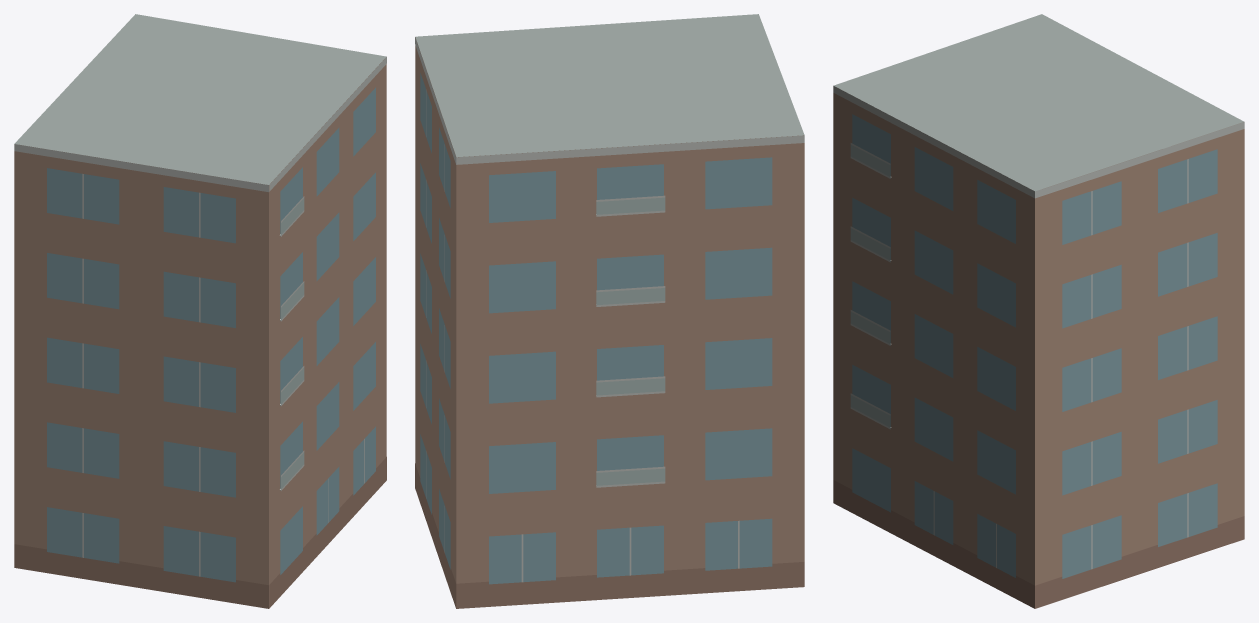
File: survey-upis-32771629.glb
The picture shows the model from 3 angles, left to right: view 1: azimuth 30°, elevation 25°; view 2: azimuth 150°, elevation 25°; view 3: azimuth 270°, elevation 25°; orthographic projection. The views are drawn at different scales.
Parts seen in each view (by area): view 1: survey-upis-32771629.tmp; view 2: survey-upis-32771629.tmp; view 3: survey-upis-32771629.tmp.
Part boxes in pixels (left/top/right/bottom): survey-upis-32771629.tmp: left=14, top=14, right=386, bottom=608; survey-upis-32771629.tmp: left=415, top=14, right=804, bottom=608; survey-upis-32771629.tmp: left=833, top=14, right=1244, bottom=608.
Size of the model in its own units: 13.13 by 14.4 by 12.86.
